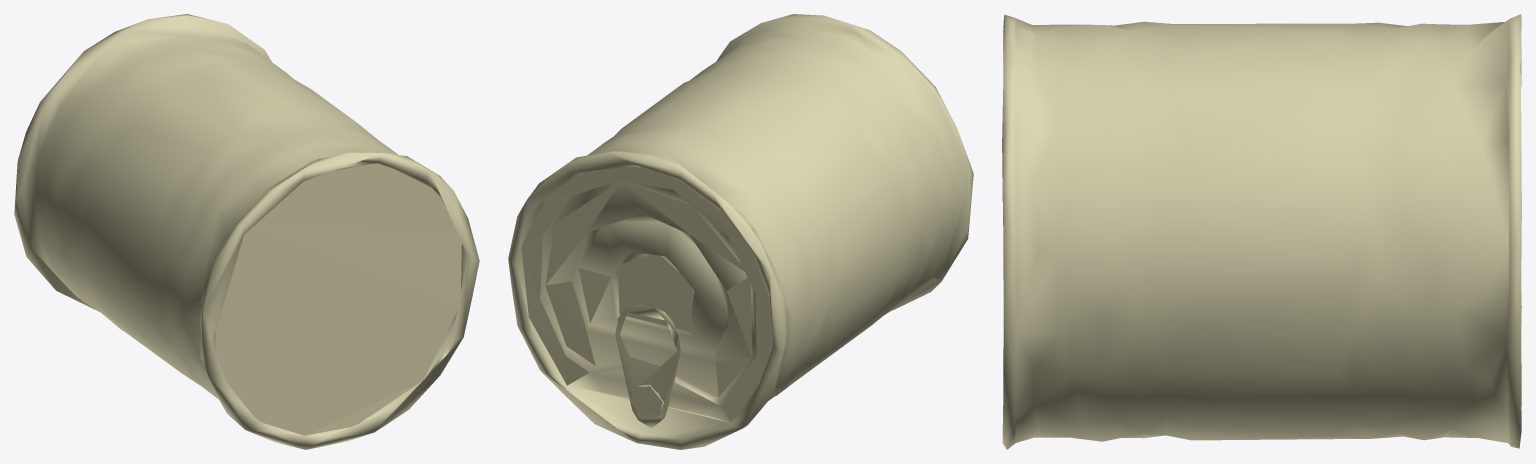
File: VIS_Obj_4_Can.dae
The picture shows the model from 3 angles, left to right: view 1: azimuth 30°, elevation 25°; view 2: azimuth 150°, elevation 25°; view 3: azimuth 270°, elevation 25°; orthographic projection. The views are drawn at different scales.
Parts seen in each view (by area): view 1: VIS_Obj_4_Can; view 2: VIS_Obj_4_Can; view 3: VIS_Obj_4_Can.
Boxes of the visible parts, left/top/right/bottom form: VIS_Obj_4_Can: left=14, top=14, right=479, bottom=449; VIS_Obj_4_Can: left=508, top=14, right=973, bottom=449; VIS_Obj_4_Can: left=1002, top=14, right=1521, bottom=449.
Bounding box in the file's own units: 2.43 × 2.89 × 2.44.
